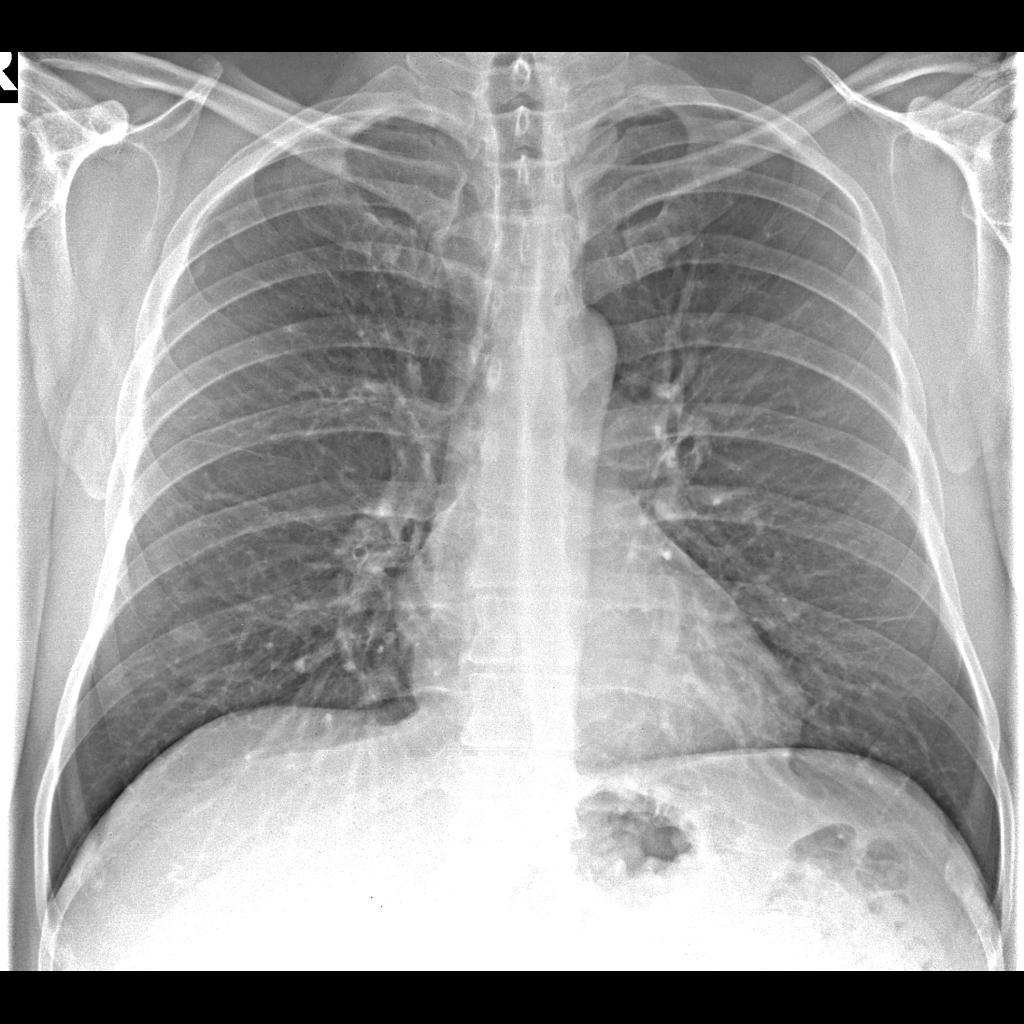Nodule: (156, 607, 213, 660)
